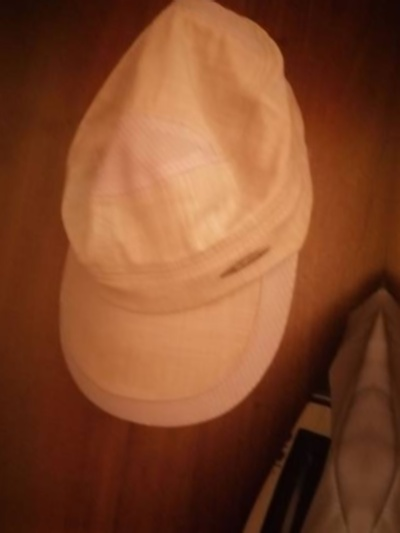Hat: (7, 0, 337, 451)
